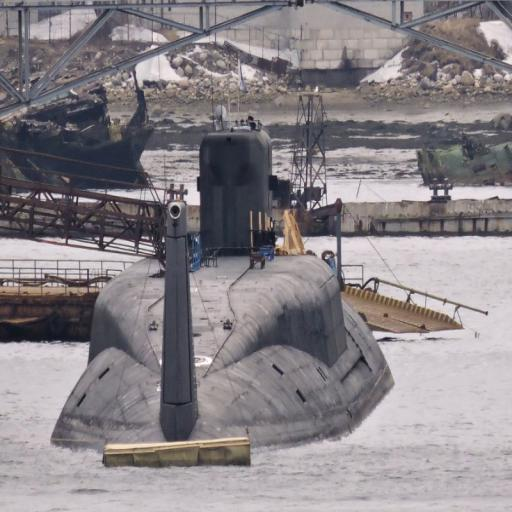submarine: (47, 116, 400, 445)
